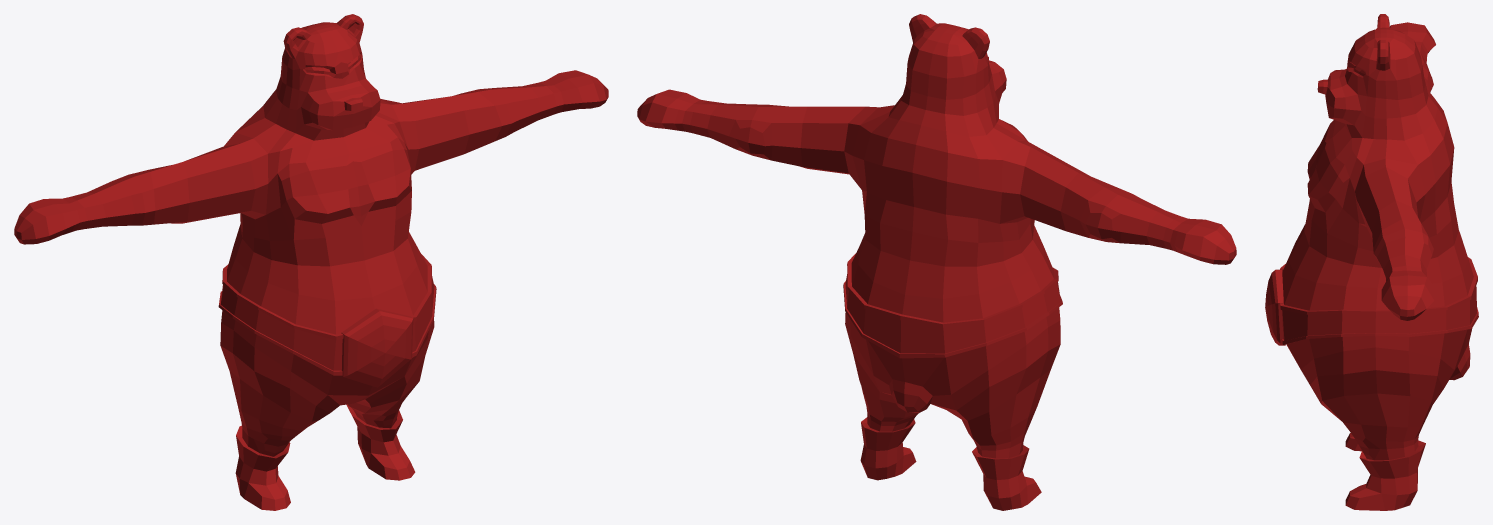
Rendered from Bear.FBX.
3 views of the same model, side by side, from view 1: azimuth 30°, elevation 25°; view 2: azimuth 150°, elevation 25°; view 3: azimuth 270°, elevation 25° (orthographic). The views are drawn at different scales.
Parts seen in each view (by area): view 1: Bear; view 2: Bear; view 3: Bear.
Boxes of the visible parts, box(x1,y1,x2,y2) form: Bear: box(14, 14, 608, 510); Bear: box(637, 14, 1236, 510); Bear: box(1265, 14, 1478, 510).
Size of the model in its own units: 61.3 by 45.51 by 19.81.
